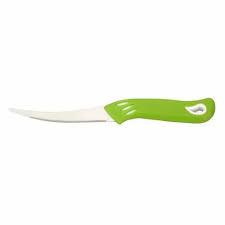Knife: (7, 96, 215, 124)
